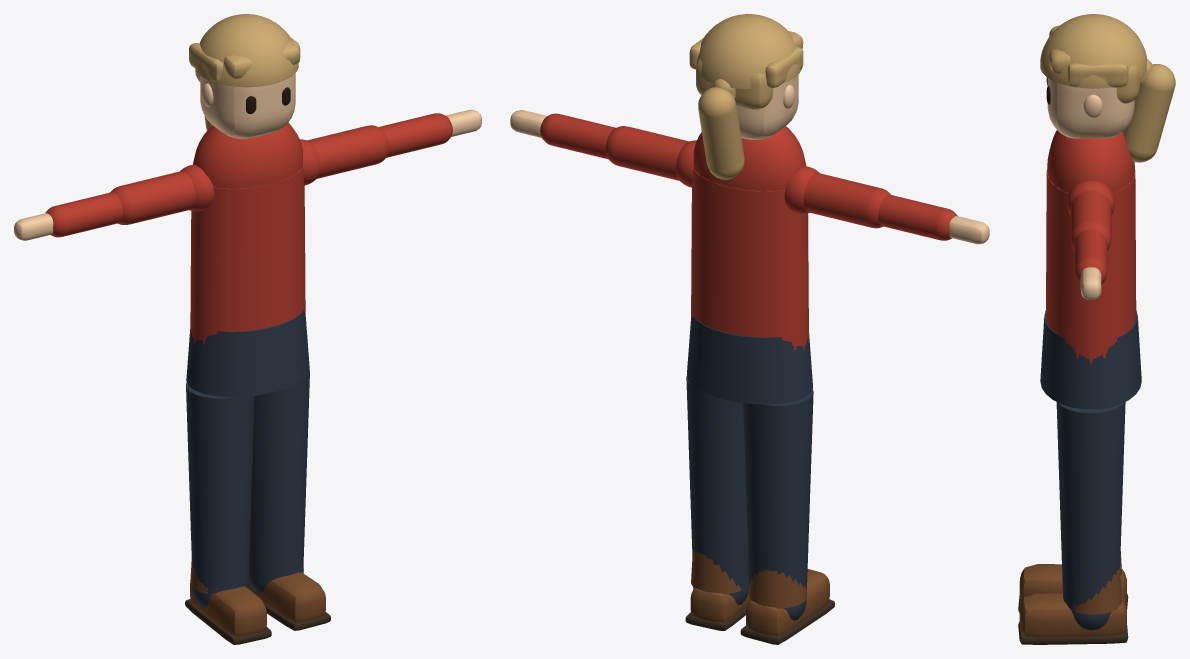
File: ingrid.glb
3 views of the same model, side by side, from view 1: azimuth 30°, elevation 25°; view 2: azimuth 150°, elevation 25°; view 3: azimuth 270°, elevation 25° (orthographic). The views are drawn at different scales.
Visible parts, largest first — view 1: ingrid_shirt_body, ingrid_pant_leg_l, ingrid_pant_leg_r, ingrid_bottom_waist, ingrid_top_shoulders, ingrid_hair_cap, ingrid_head, ingrid_upperarm_l, ingrid_upperarm_r, ingrid_boot_l, ingrid_boot_r, ingrid_forearm_l (+7 smaller); view 2: ingrid_shirt_body, ingrid_pant_leg_l, ingrid_pant_leg_r, ingrid_bottom_waist, ingrid_hair_cap, ingrid_top_shoulders, ingrid_ponytail, ingrid_upperarm_l, ingrid_upperarm_r, ingrid_forearm_l, ingrid_boot_l, ingrid_forearm_r (+11 smaller); view 3: ingrid_pant_leg_r, ingrid_shirt_body, ingrid_bottom_waist, ingrid_hair_cap, ingrid_top_shoulders, ingrid_head, ingrid_ponytail, ingrid_boot_r, ingrid_upperarm_r, ingrid_boot_l, ingrid_forearm_r, ingrid_hair_side_r (+8 smaller).
Part boxes in pixels (x1=…): ingrid_shirt_body: x1=190, y1=165, x2=305, y2=340; ingrid_pant_leg_l: x1=186, y1=382, x2=254, y2=590; ingrid_pant_leg_r: x1=248, y1=369, x2=309, y2=584; ingrid_bottom_waist: x1=186, y1=310, x2=309, y2=397; ingrid_top_shoulders: x1=193, y1=122, x2=302, y2=188; ingrid_hair_cap: x1=195, y1=14, x2=298, y2=87; ingrid_head: x1=200, y1=73, x2=295, y2=138; ingrid_upperarm_l: x1=110, y1=171, x2=195, y2=224; ingrid_upperarm_r: x1=307, y1=125, x2=388, y2=178; ingrid_boot_l: x1=190, y1=583, x2=266, y2=636; ingrid_boot_r: x1=248, y1=572, x2=325, y2=621; ingrid_forearm_l: x1=45, y1=192, x2=122, y2=237; ingrid_shirt_body: x1=691, y1=167, x2=808, y2=346; ingrid_pant_leg_l: x1=743, y1=389, x2=813, y2=589; ingrid_pant_leg_r: x1=686, y1=376, x2=749, y2=595; ingrid_bottom_waist: x1=687, y1=316, x2=812, y2=404; ingrid_hair_cap: x1=695, y1=14, x2=801, y2=88; ingrid_top_shoulders: x1=693, y1=126, x2=806, y2=191; ingrid_ponytail: x1=698, y1=87, x2=744, y2=179; ingrid_upperarm_l: x1=803, y1=173, x2=890, y2=228; ingrid_upperarm_r: x1=605, y1=126, x2=689, y2=180; ingrid_forearm_l: x1=878, y1=194, x2=957, y2=240; ingrid_boot_l: x1=746, y1=569, x2=829, y2=635; ingrid_forearm_r: x1=540, y1=113, x2=615, y2=158; ingrid_pant_leg_r: x1=1056, y1=402, x2=1125, y2=606; ingrid_shirt_body: x1=1046, y1=169, x2=1136, y2=358; ingrid_bottom_waist: x1=1040, y1=310, x2=1141, y2=409; ingrid_hair_cap: x1=1040, y1=14, x2=1147, y2=88; ingrid_top_shoulders: x1=1047, y1=130, x2=1134, y2=193; ingrid_head: x1=1047, y1=78, x2=1134, y2=138; ingrid_ponytail: x1=1123, y1=64, x2=1175, y2=162; ingrid_boot_r: x1=1019, y1=593, x2=1126, y2=637; ingrid_upperarm_r: x1=1070, y1=190, x2=1111, y2=250; ingrid_boot_l: x1=1019, y1=564, x2=1126, y2=601; ingrid_forearm_r: x1=1074, y1=229, x2=1107, y2=284; ingrid_hair_side_r: x1=1067, y1=62, x2=1128, y2=87.
Bounding box in the file's own units: 1.51 × 1.83 × 0.4326.
